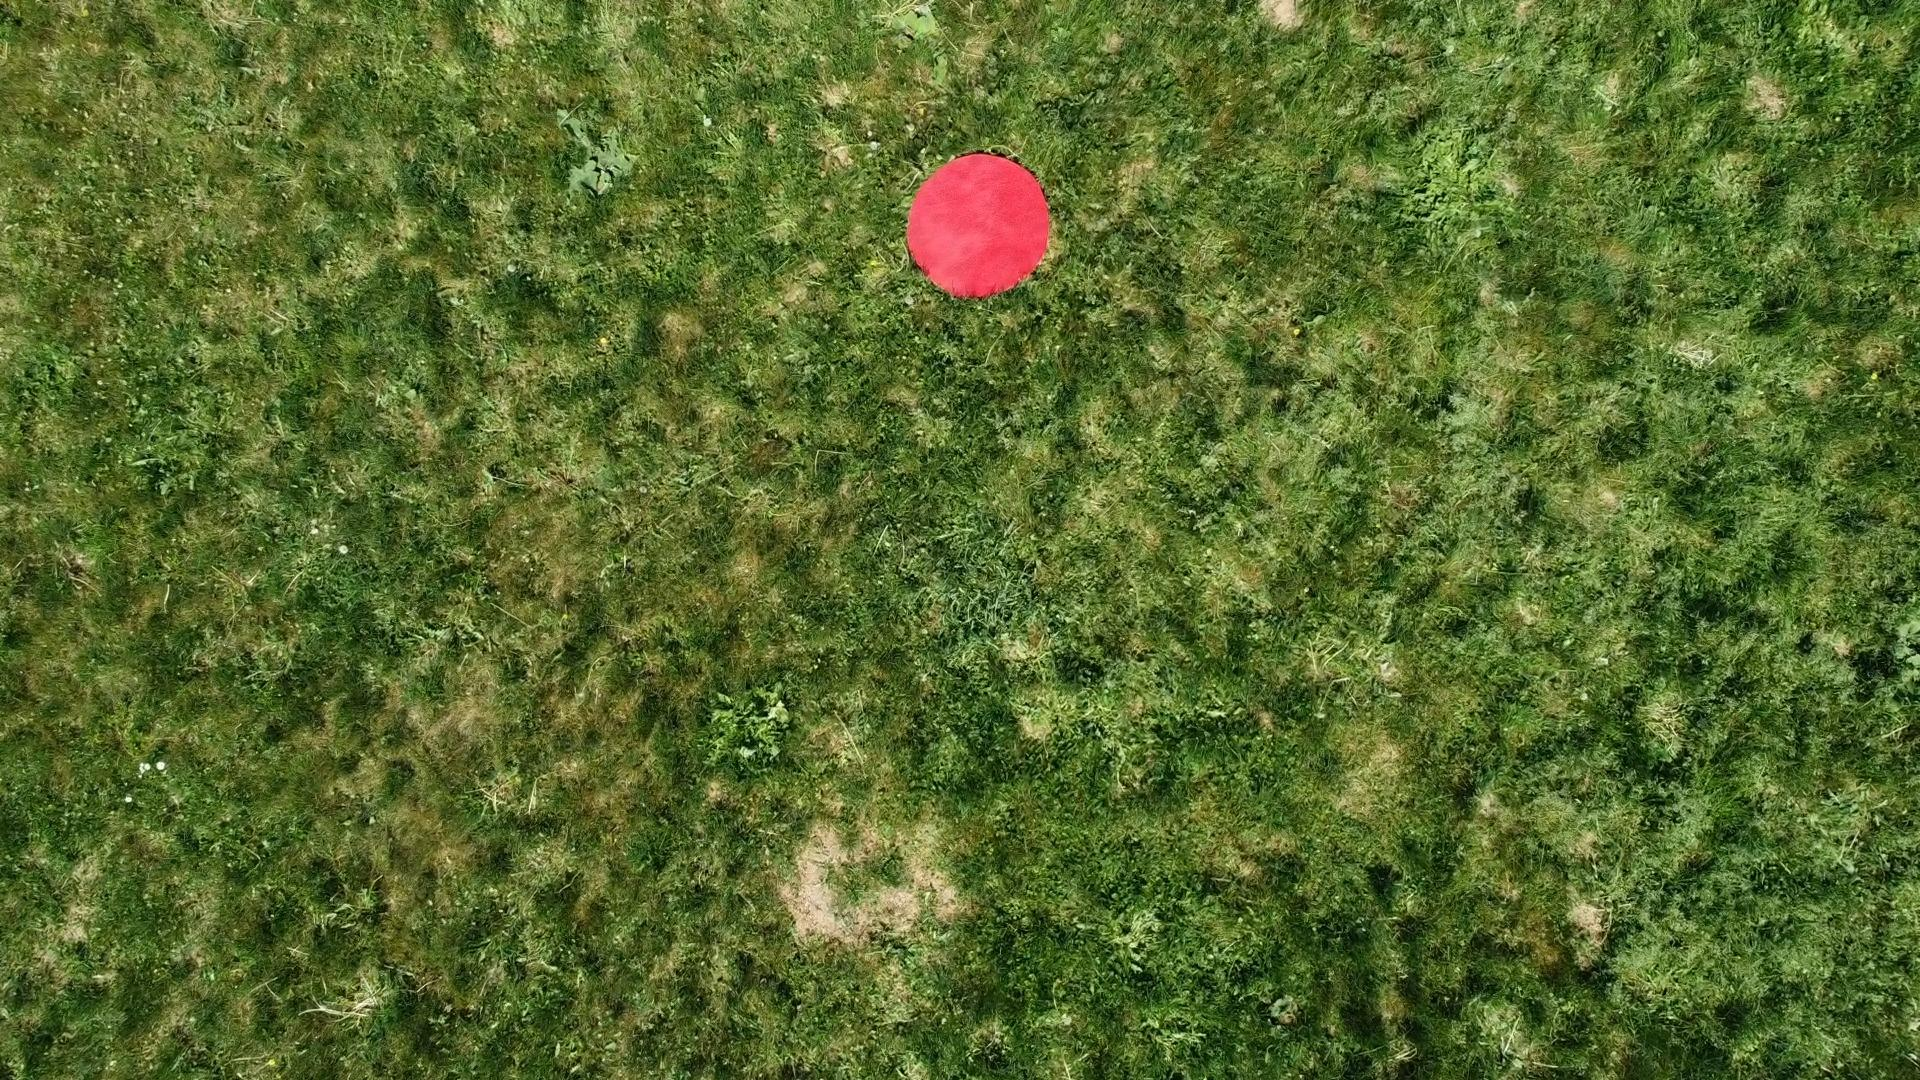Red: (899, 142, 1059, 310)
